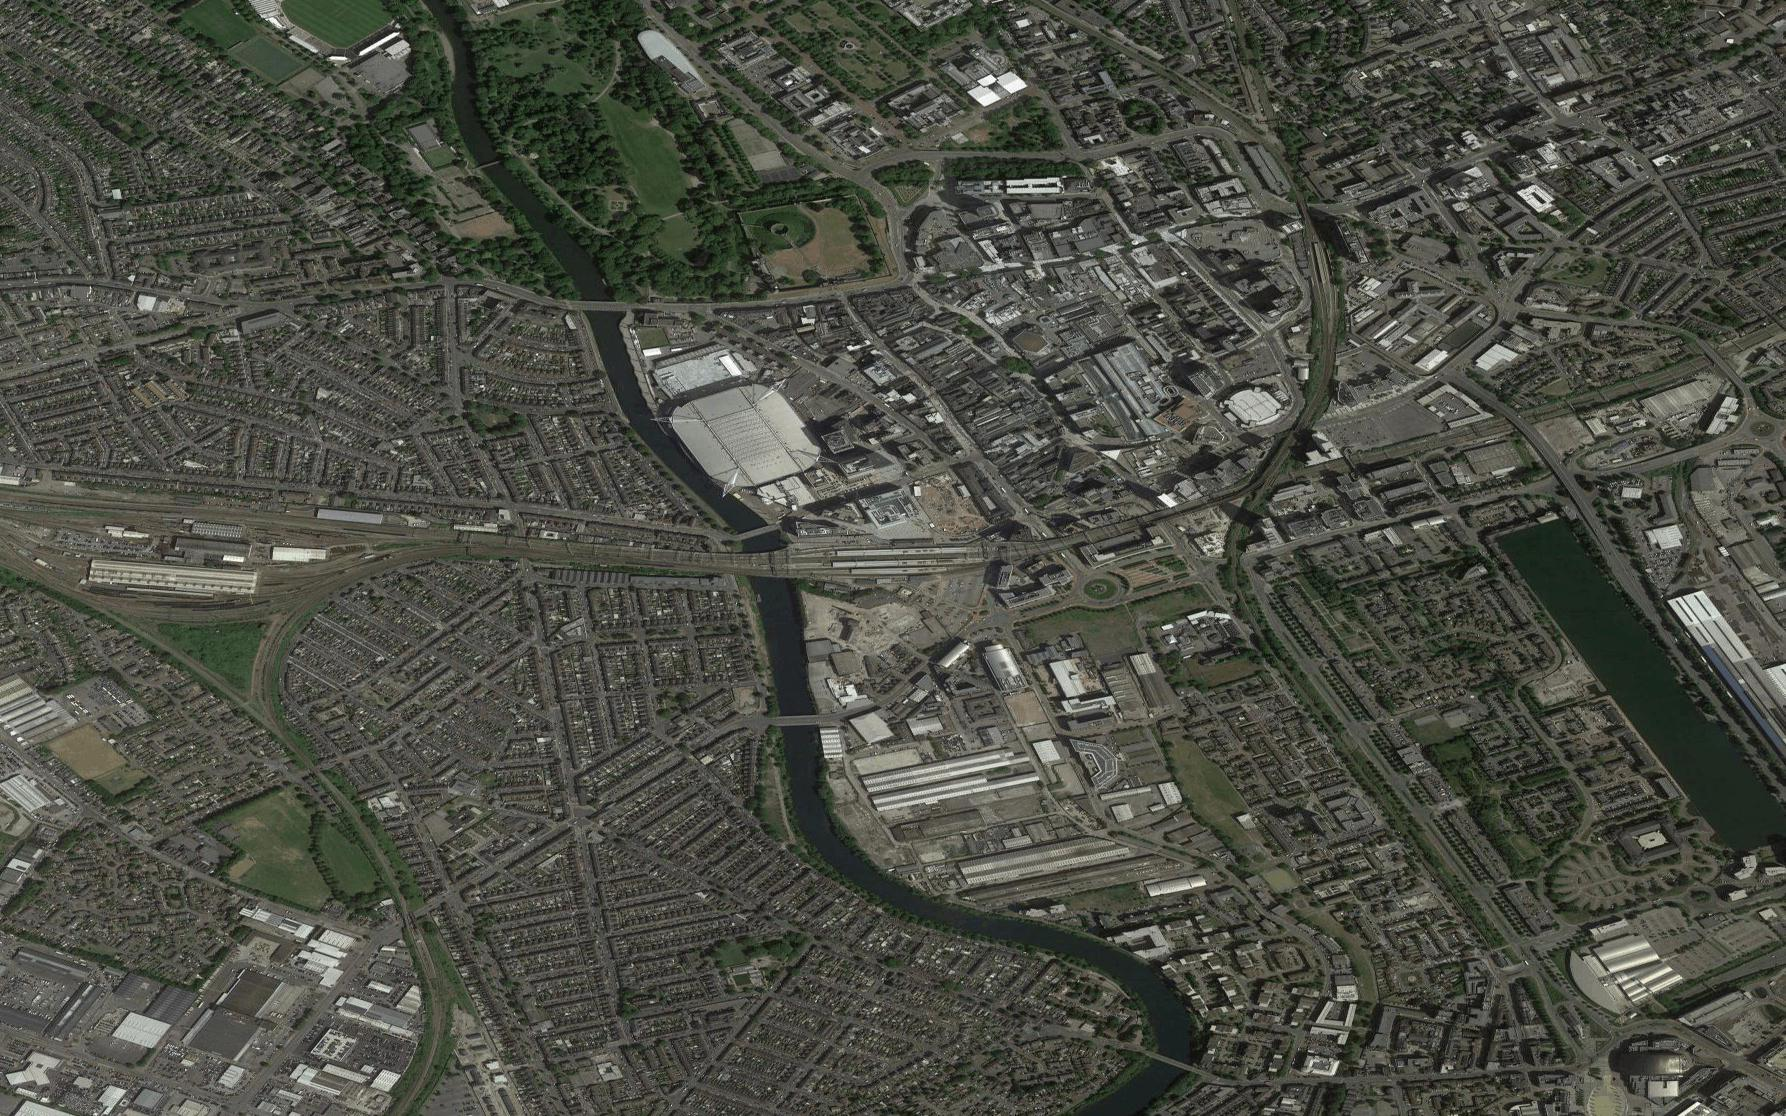bridge: (1139, 1045, 1201, 1076), (766, 706, 829, 735), (572, 288, 635, 318)
train_station: (743, 523, 1006, 604)
